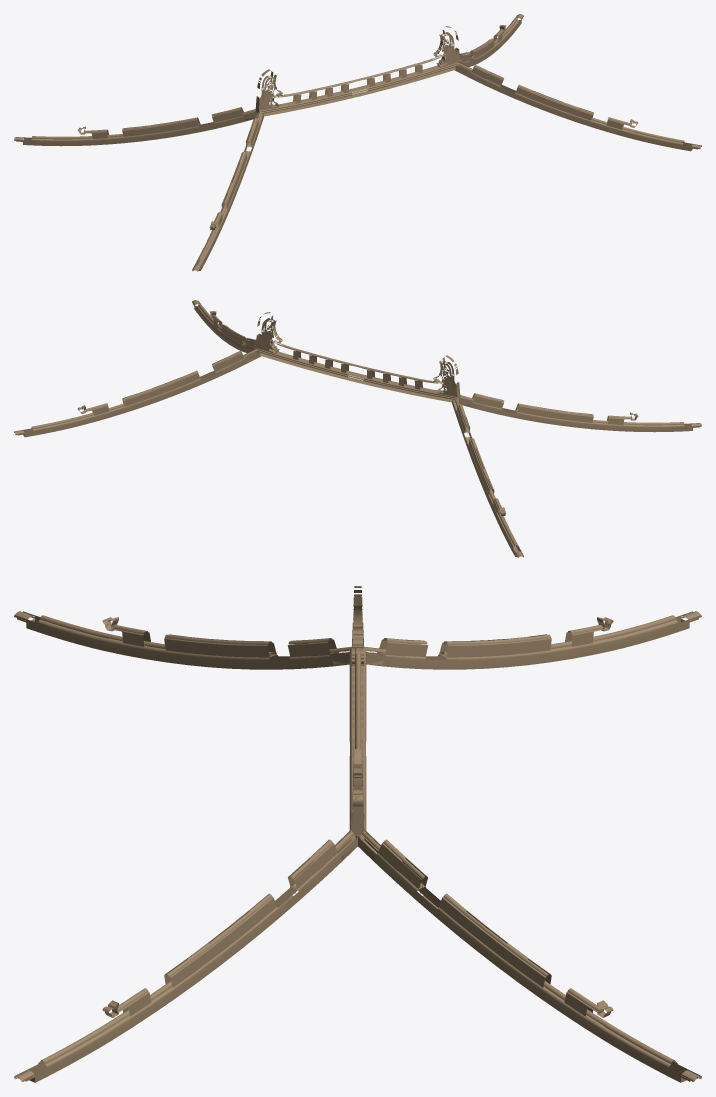
The picture shows the model from 3 angles, top to bottom: view 1: azimuth 30°, elevation 25°; view 2: azimuth 150°, elevation 25°; view 3: azimuth 270°, elevation 25°; orthographic projection. The views are drawn at different scales.
Parts seen in each view (by area): view 1: Layer_0; view 2: Layer_0; view 3: Layer_0.
Boxes of the visible parts, bbox=[...] form: Layer_0: bbox=[14, 14, 701, 271]; Layer_0: bbox=[14, 300, 701, 557]; Layer_0: bbox=[14, 586, 701, 1082].
Size of the model in its own units: 10 by 1.85 by 6.2.
